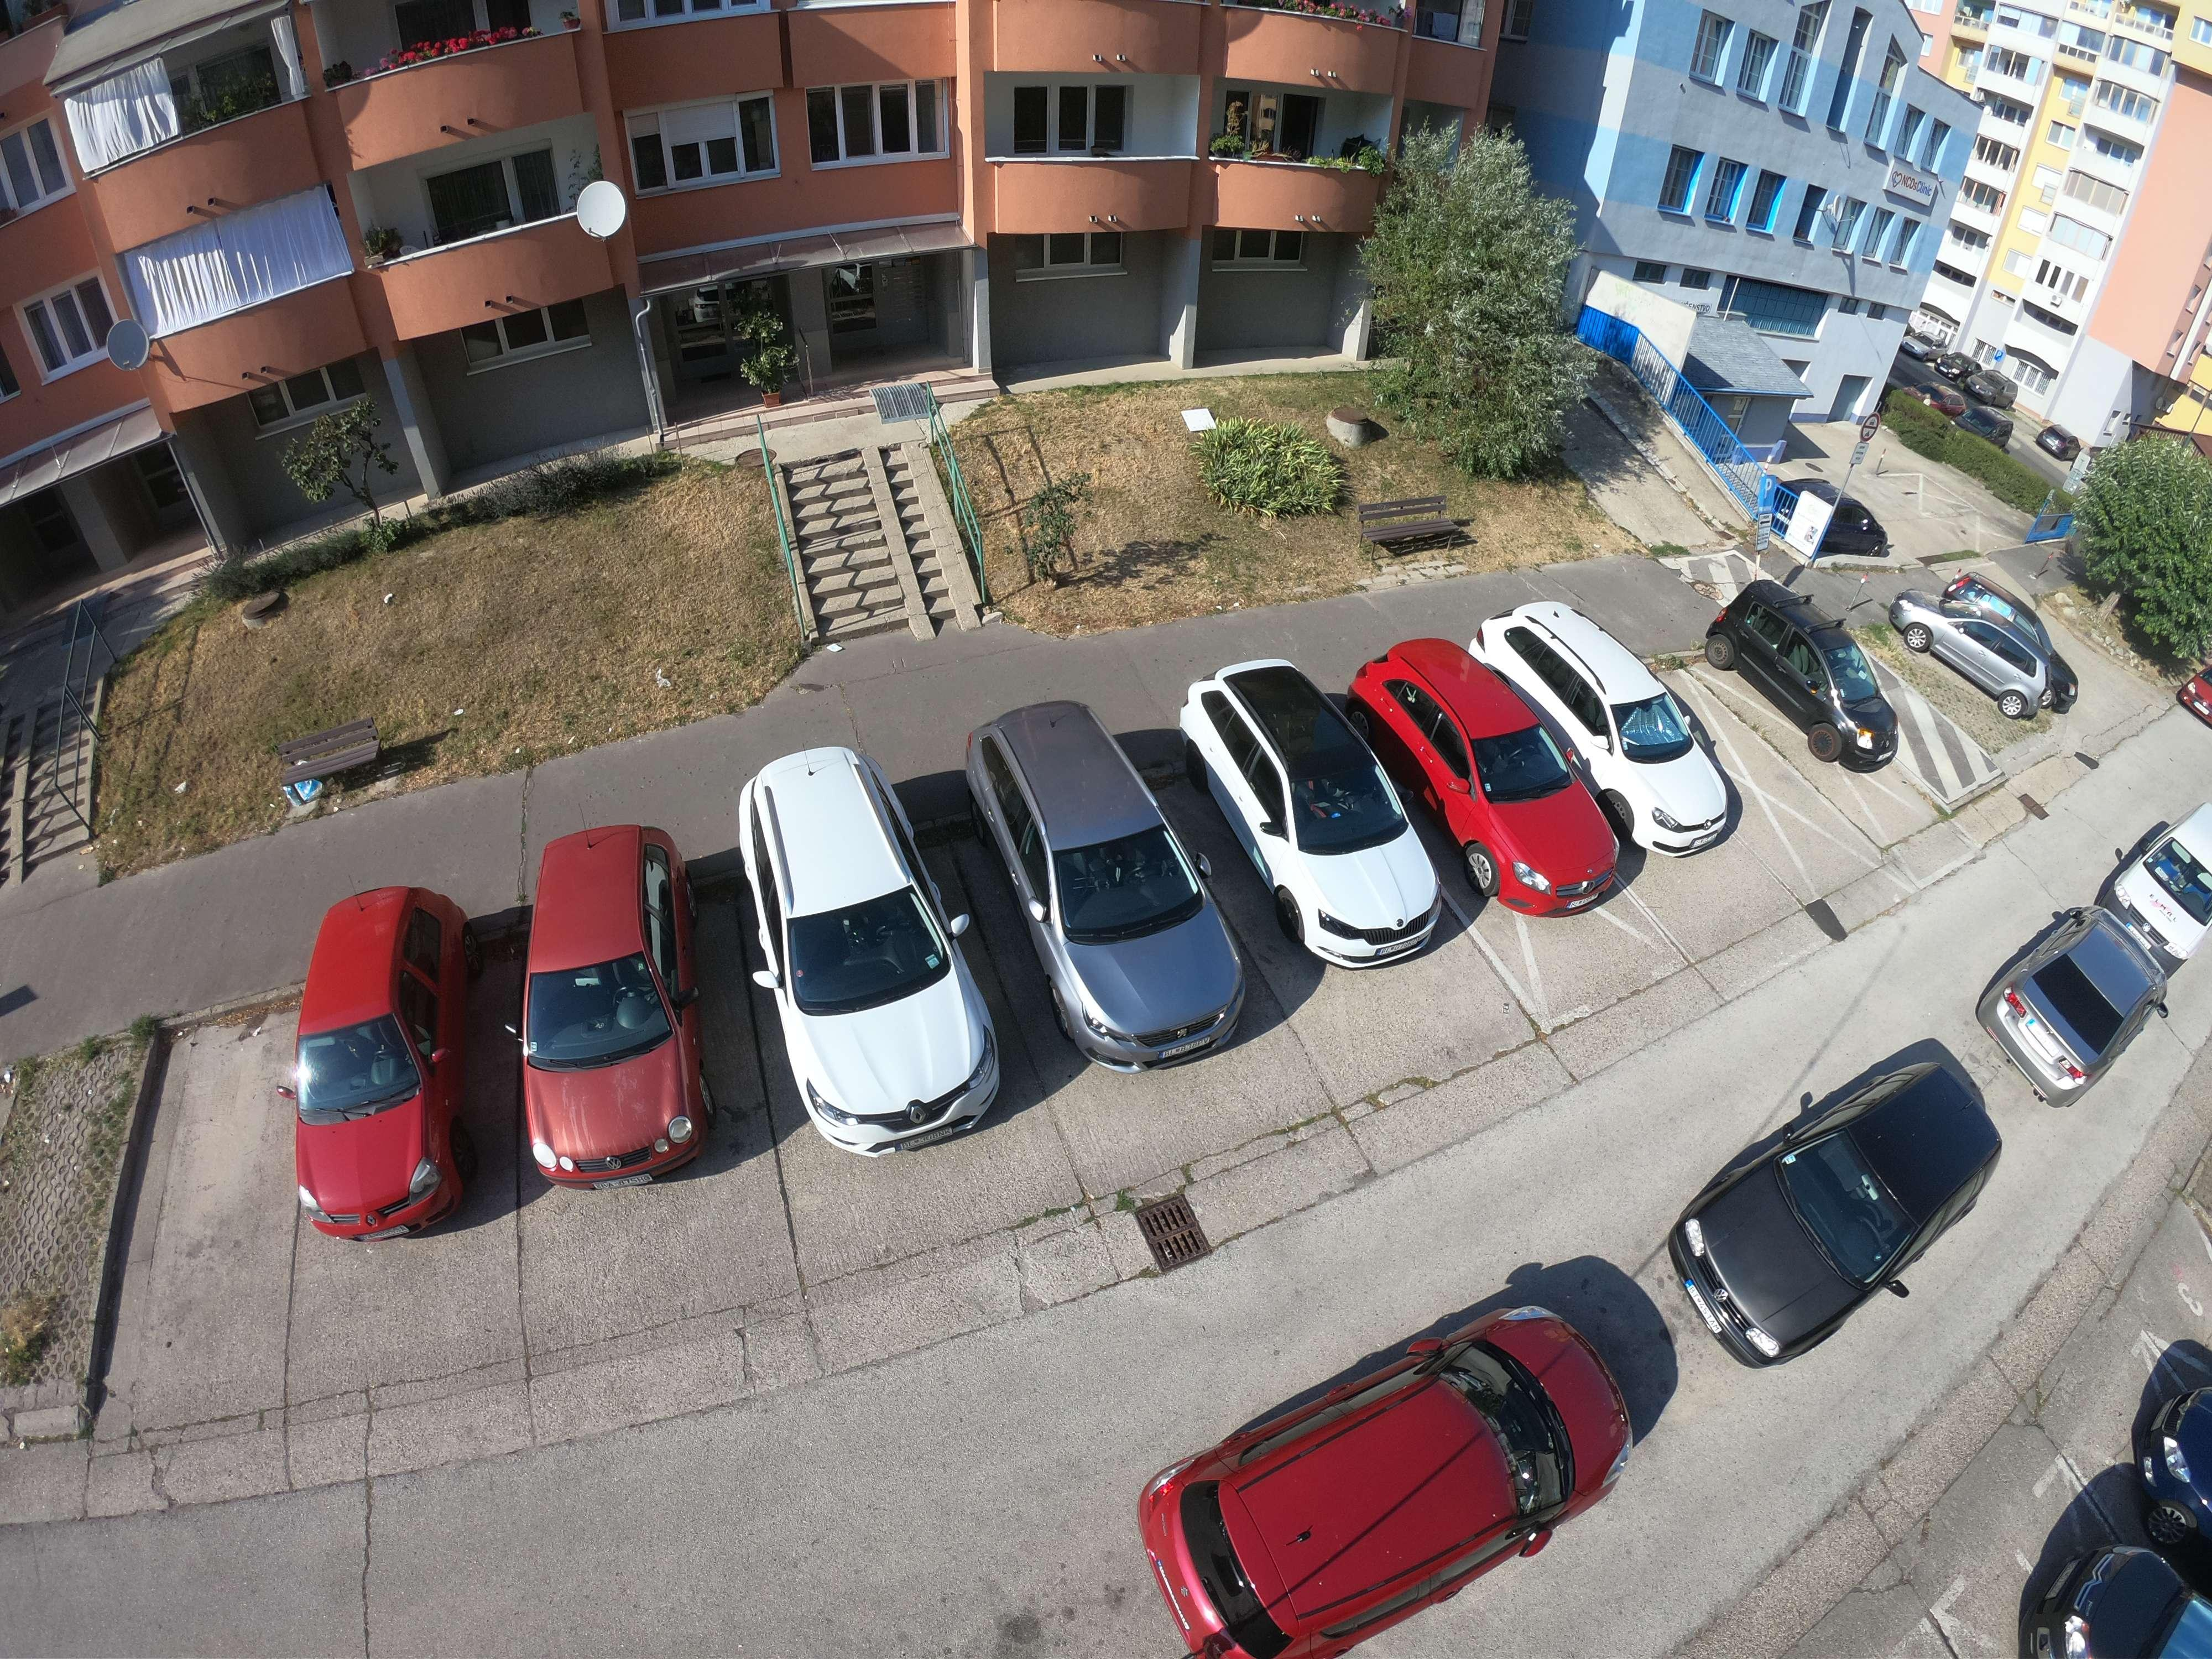empty: (1144, 1286, 1625, 1633), (709, 737, 1015, 1148), (1667, 1047, 2010, 1359), (970, 690, 1249, 1065), (475, 809, 726, 1188), (242, 873, 493, 1236), (1174, 655, 1447, 960), (1381, 645, 1611, 911), (2034, 1330, 2209, 1659), (1512, 613, 1733, 866), (1996, 843, 2182, 1098), (1721, 584, 1914, 772), (970, 12, 1177, 173), (1898, 577, 2074, 711)
occupied: (124, 1080, 298, 1277), (1674, 692, 1784, 812), (1879, 671, 1986, 774)
